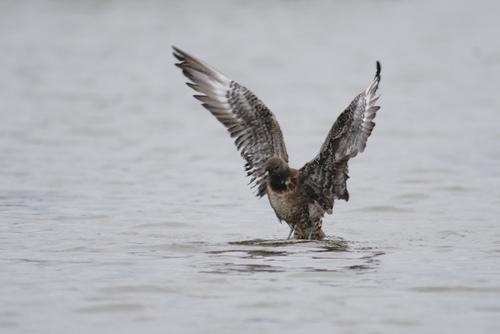bird: (172, 43, 387, 243)
